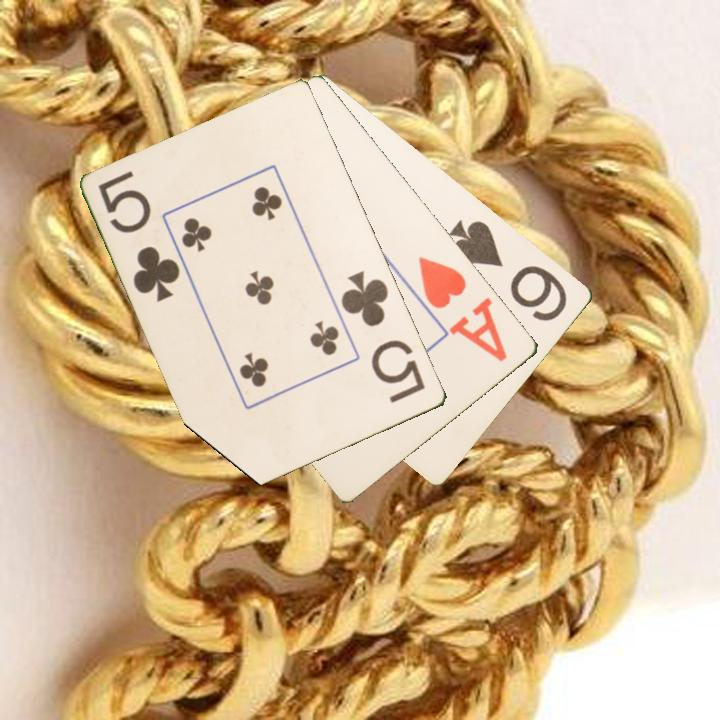5c: (337, 267, 429, 406), (95, 167, 184, 305)
6s: (445, 216, 571, 325)
Ah: (415, 252, 511, 365)
